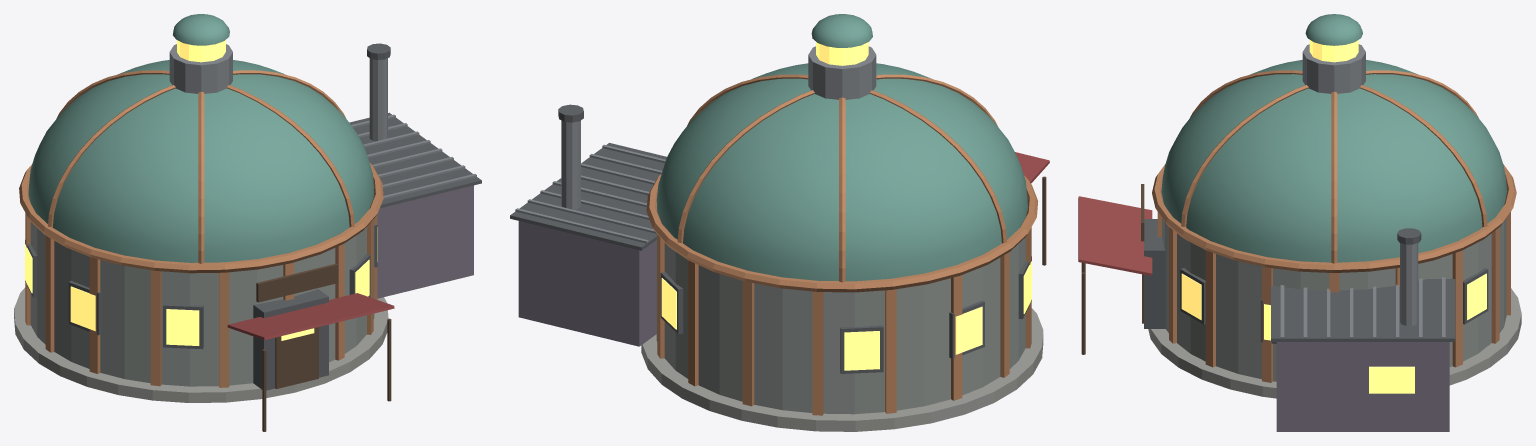
Rendered from tavern.glb.
3 views of the same model, side by side, from view 1: azimuth 30°, elevation 25°; view 2: azimuth 150°, elevation 25°; view 3: azimuth 270°, elevation 25° (orthographic). The views are drawn at different scales.
Parts seen in each view (by area): view 1: tavern; view 2: tavern; view 3: tavern.
Boxes of the visible parts, <box> form: tavern: <box>14,14,481,431</box>; tavern: <box>510,14,1049,431</box>; tavern: <box>1078,14,1521,431</box>.
Size of the model in its own units: 16.45 by 11.7 by 15.38.
